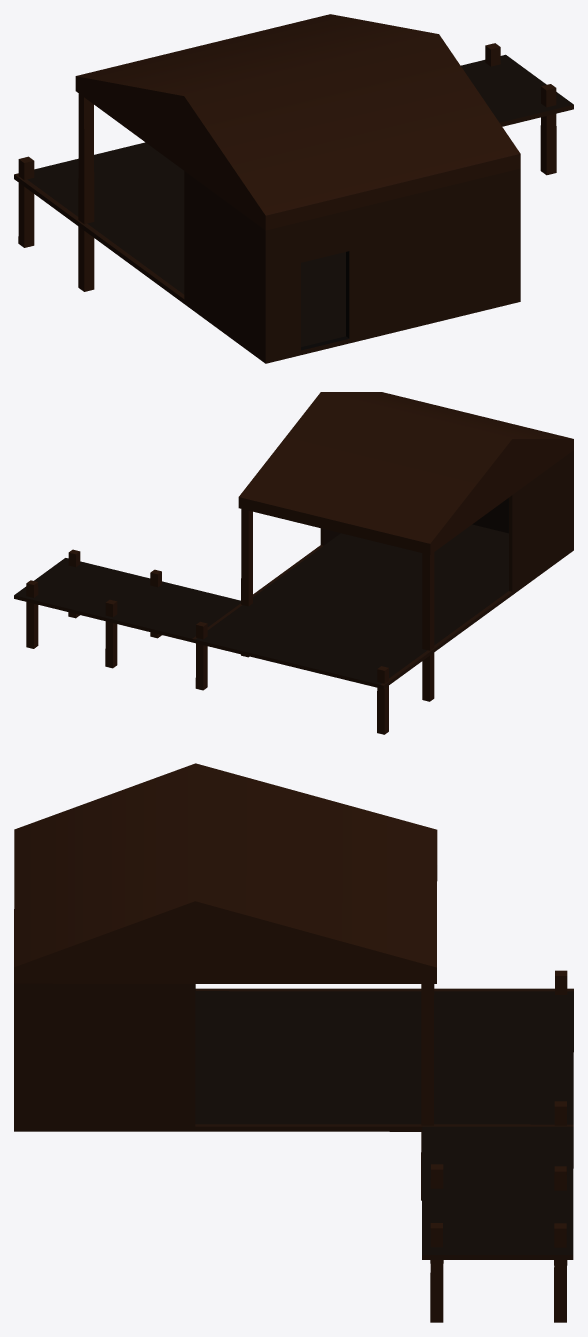
The model's file is Port.fbx.
The picture shows the model from 3 angles, top to bottom: view 1: azimuth 30°, elevation 25°; view 2: azimuth 150°, elevation 25°; view 3: azimuth 270°, elevation 25°; orthographic projection. The views are drawn at different scales.
Visible parts, largest first — view 1: Port; view 2: Port; view 3: Port.
Boxes of the visible parts, x1,y1,x2,y2 form: Port: [14, 14, 573, 363]; Port: [14, 392, 573, 734]; Port: [14, 763, 573, 1322].
Bounding box in the file's own units: 16.5 × 8.68 × 14.66.
